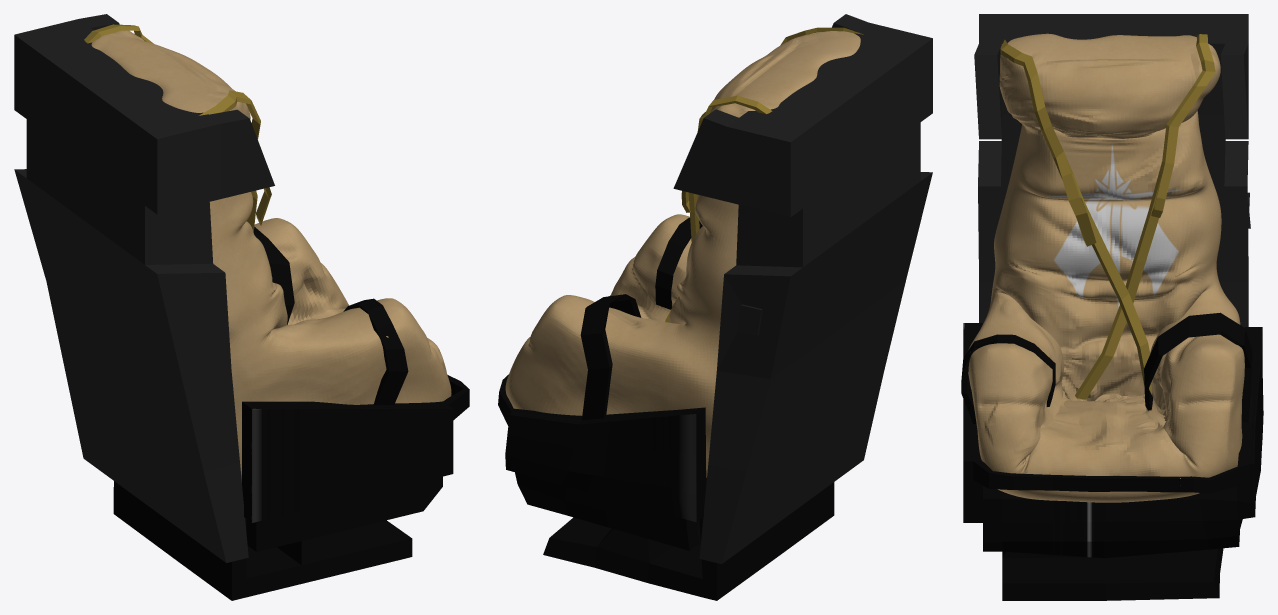
File: JumpChair.fbx
3 renders of one model, left to right at view 1: azimuth 30°, elevation 25°; view 2: azimuth 150°, elevation 25°; view 3: azimuth 270°, elevation 25°, orthographic. The views are drawn at different scales.
Visible parts, largest first — view 1: Cube.015, Plane, Cube.014, Plane.002; view 2: Cube.015, Plane, Cube.014, Plane.001; view 3: Cube.014, Plane, Cube.015, Plane.001, Plane.002.
Boxes of the visible parts, x1,y1,x2,y2 form: Cube.015: (14, 14, 274, 562); Plane: (113, 226, 469, 600); Cube.014: (91, 30, 451, 481); Plane.002: (199, 90, 271, 231); Cube.015: (673, 14, 932, 564); Plane: (498, 217, 834, 600); Cube.014: (505, 31, 860, 477); Plane.001: (681, 95, 772, 241); Cube.014: (968, 33, 1244, 502); Plane: (961, 312, 1263, 600); Cube.015: (974, 14, 1250, 327); Plane.001: (1075, 34, 1215, 399); Plane.002: (1000, 39, 1152, 394).
Bounding box in the file's own units: 147 × 218 × 126.
